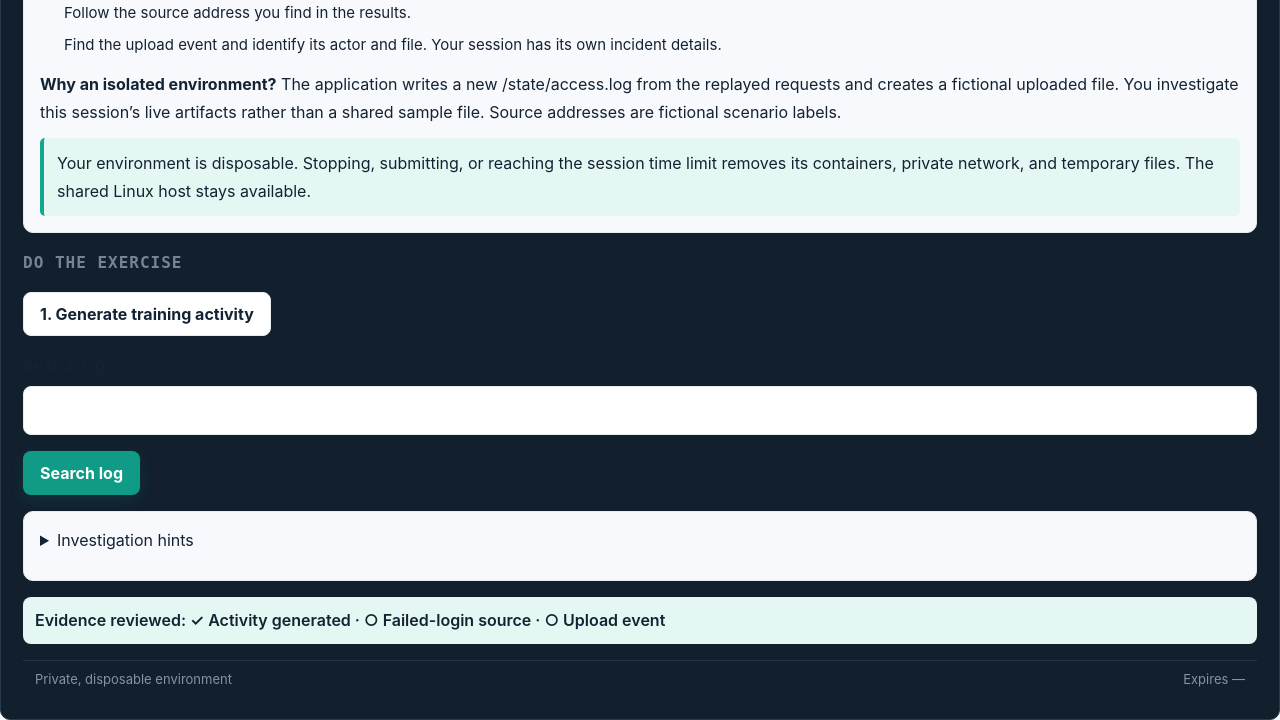
Test: saved lab activity › shows the evidence confirmed by the server after a search
(page scrolled)
Type "file_upload" into the field labelled "Search log" at [640, 410], box [23, 386, 1257, 435]
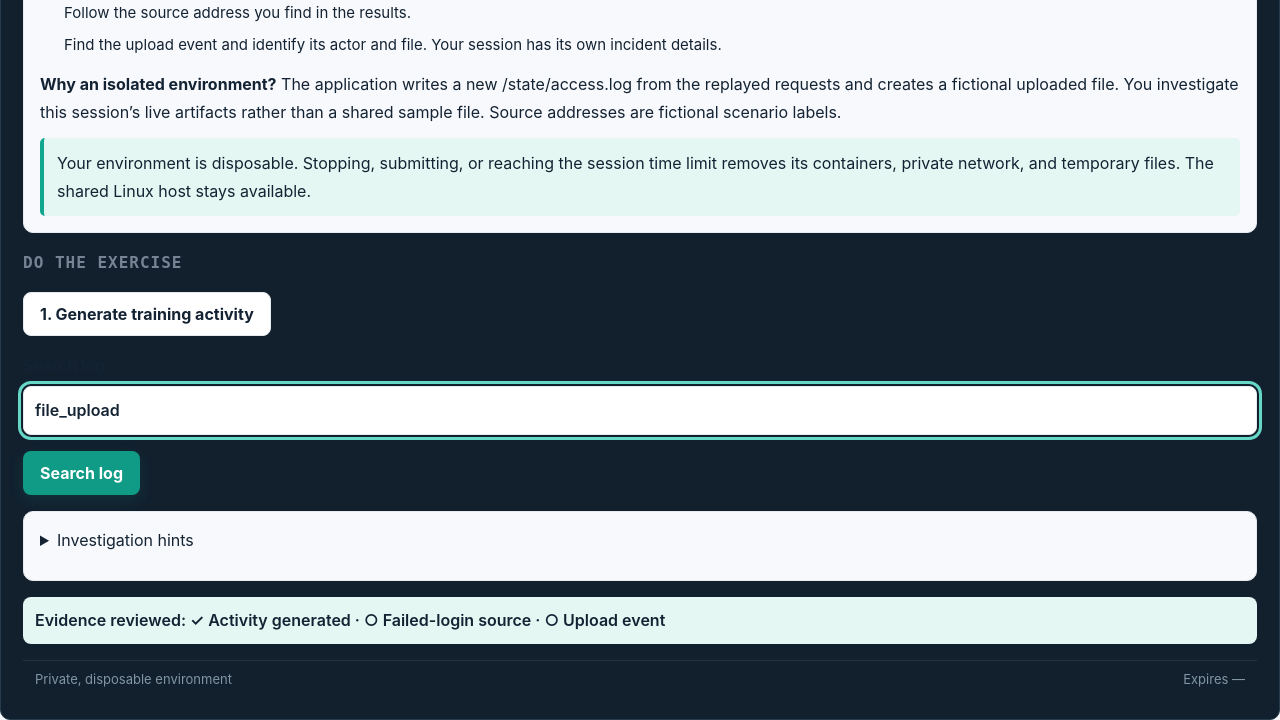
Click the button "Search log" at [82, 473], box [23, 451, 140, 495]
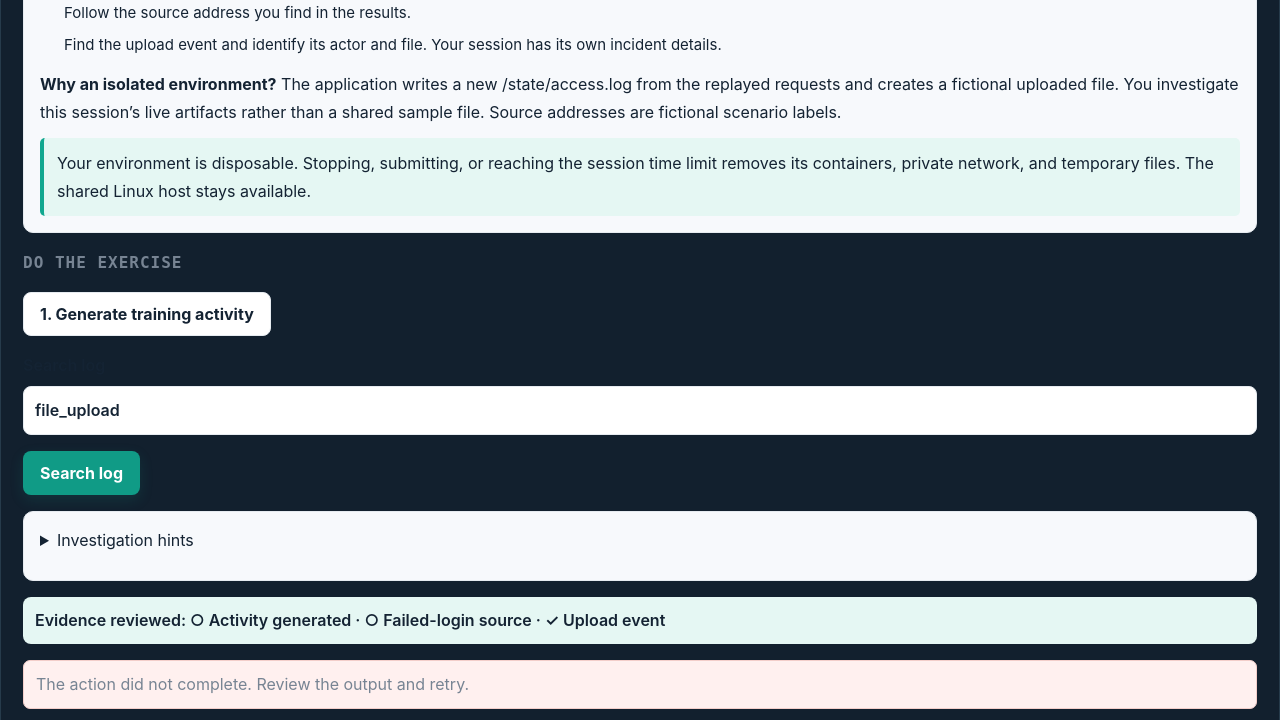
Expected: the message that starts with "Evidence reviewed:" shows "○ Failed-login source", [190, 610, 665, 630]
Expected: the message that starts with "Evidence reviewed:" shows "✓ Upload event", [190, 610, 665, 630]
